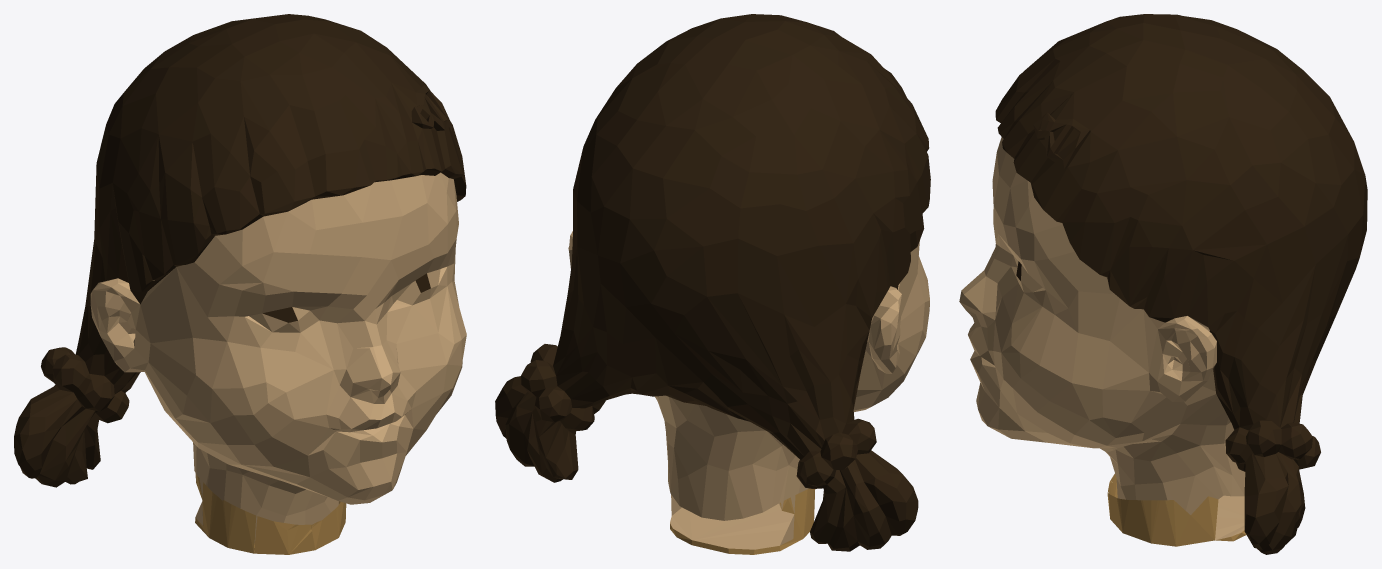
The model's file is RedLightGreenLight_Asset_DollHead.glb.
The picture shows the model from 3 angles, left to right: view 1: azimuth 30°, elevation 25°; view 2: azimuth 150°, elevation 25°; view 3: azimuth 270°, elevation 25°; orthographic projection. The views are drawn at different scales.
Parts seen in each view (by area): view 1: Doll Head; view 2: Doll Head; view 3: Doll Head.
Part boxes in pixels (left/top/right/bottom): Doll Head: left=14, top=14, right=466, bottom=554; Doll Head: left=495, top=14, right=930, bottom=554; Doll Head: left=959, top=14, right=1367, bottom=554.
Size of the model in its own units: 2.85 by 3.15 by 2.4.
